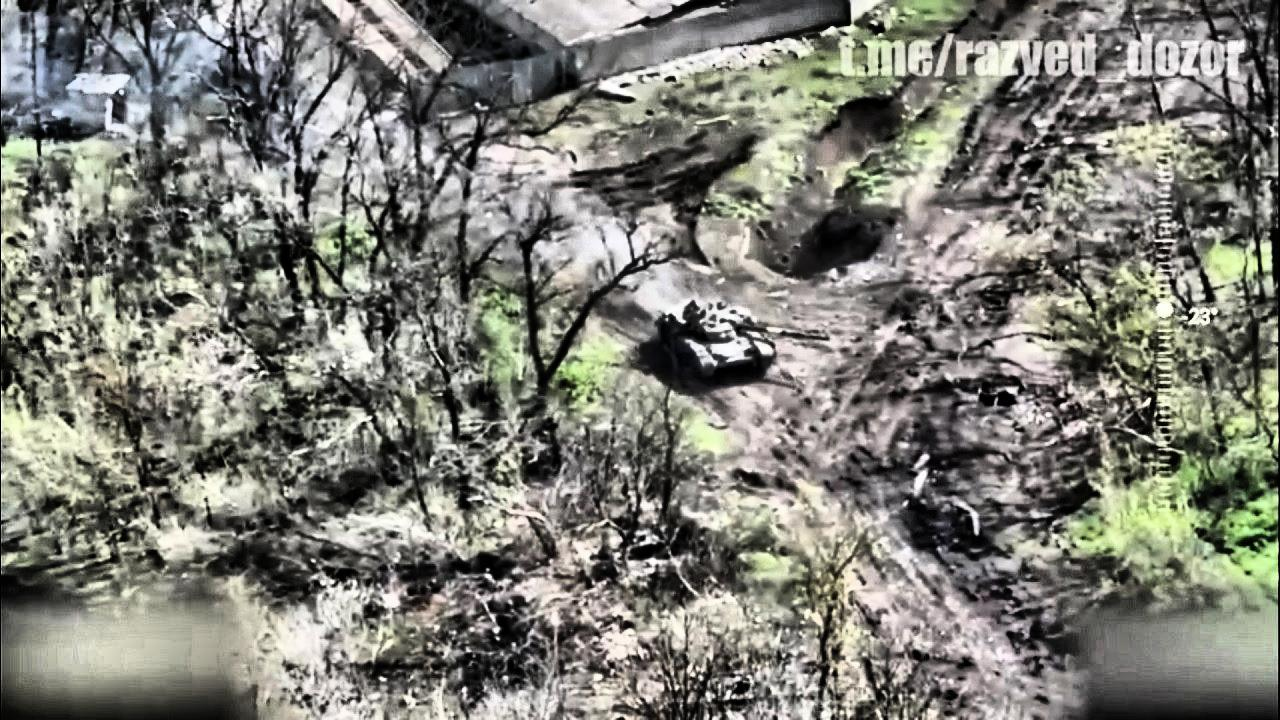military-vehicle: (657, 300, 828, 383)
